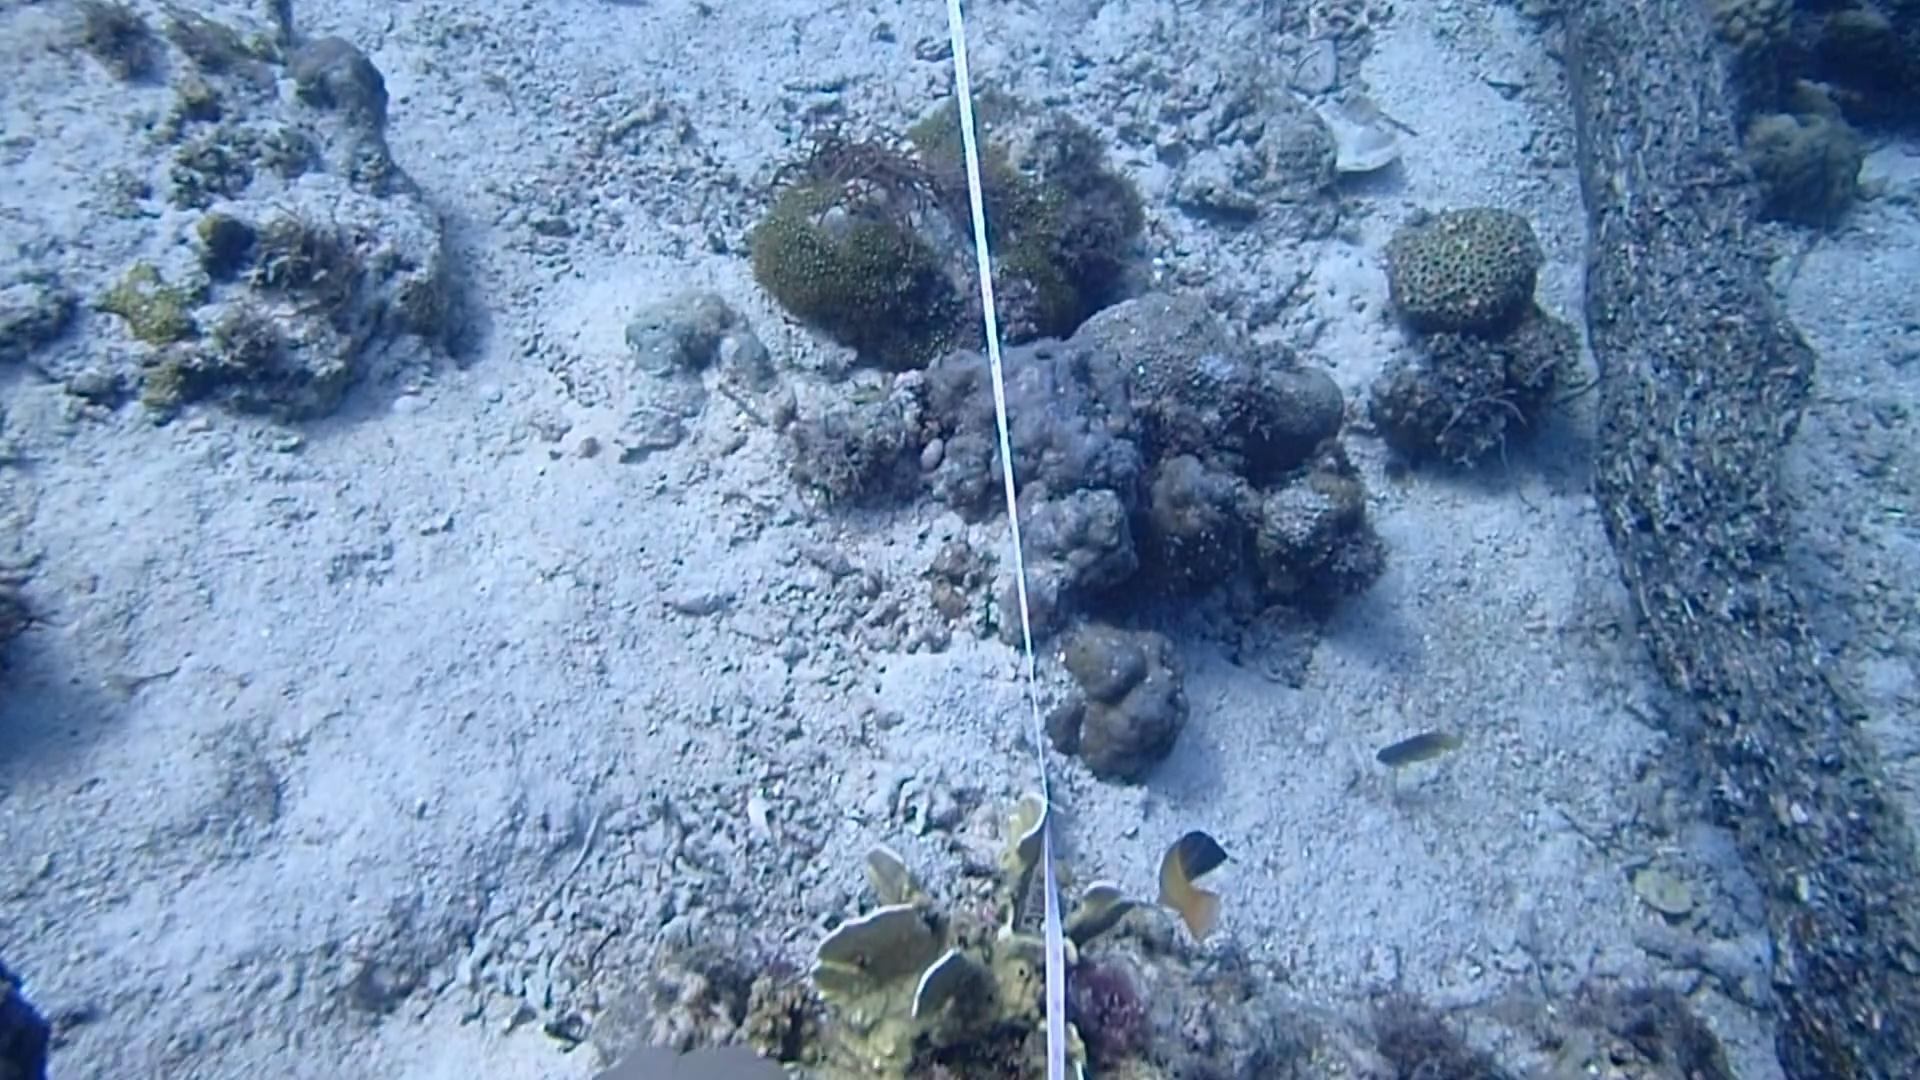Light Fish: (1362, 723, 1461, 794)
Yellow-Blue Fish: (1141, 824, 1254, 948)
